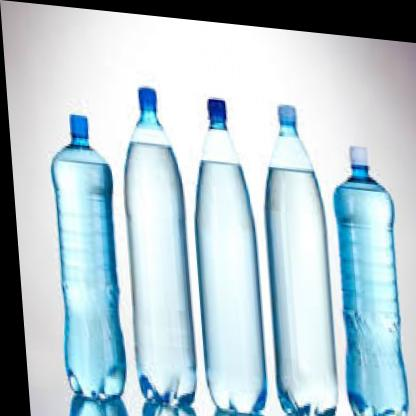Plastic: (110, 76, 200, 414), (182, 88, 268, 416), (37, 107, 128, 410), (252, 89, 335, 416), (322, 129, 416, 416)
